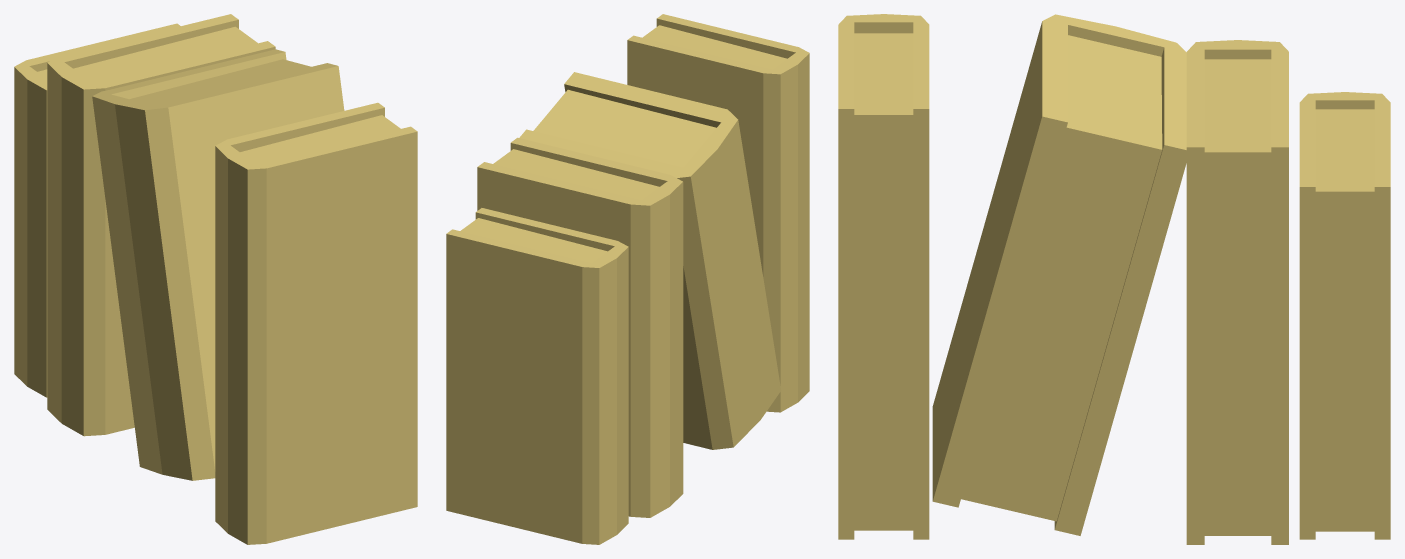
Rendered from Book Stack.fbx.
3 views of the same model, side by side, from view 1: azimuth 30°, elevation 25°; view 2: azimuth 150°, elevation 25°; view 3: azimuth 270°, elevation 25° (orthographic). The views are drawn at different scales.
Visible parts, largest first — view 1: Book Stack; view 2: Book Stack; view 3: Book Stack.
Boxes of the visible parts, left/top/right/bottom form: Book Stack: left=14, top=14, right=417, bottom=544; Book Stack: left=446, top=14, right=809, bottom=544; Book Stack: left=838, top=14, right=1390, bottom=544.
Size of the model in its own units: 27.02 by 50.59 by 58.77.
